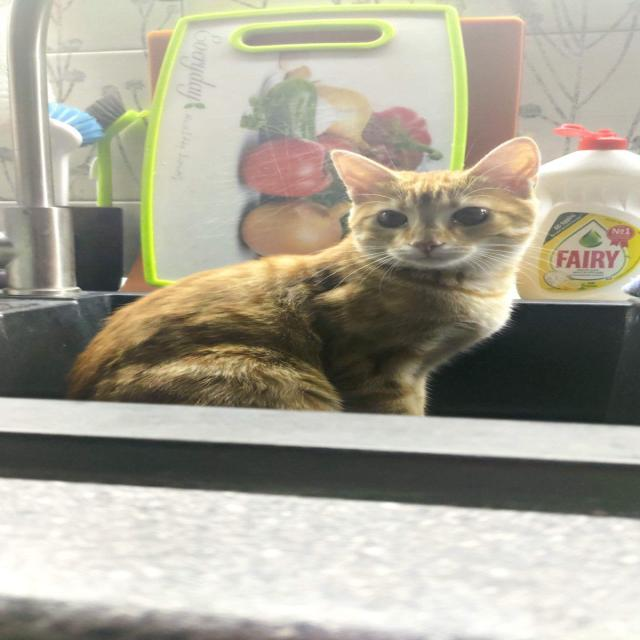red_cat: (69, 138, 540, 414)
